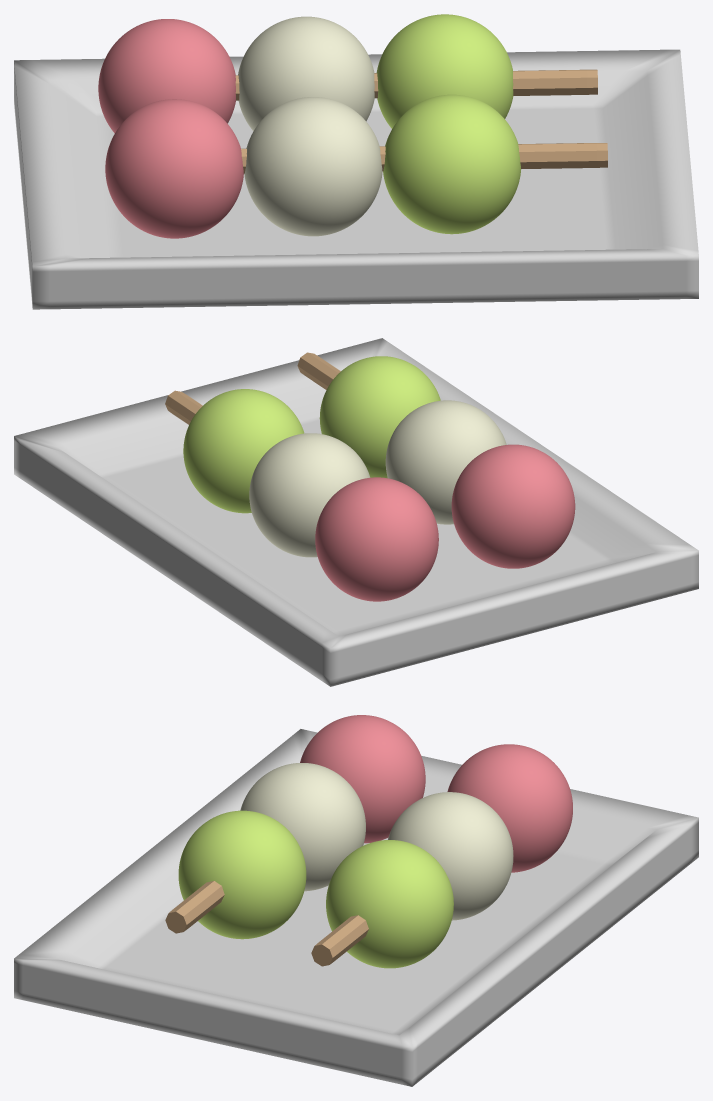
The model's file is platilloDalgonas.fbx.
3 views of the same model, one above another, from view 1: azimuth 30°, elevation 25°; view 2: azimuth 150°, elevation 25°; view 3: azimuth 270°, elevation 25° (orthographic). The views are drawn at different scales.
Parts seen in each view (by area): view 1: platilloDalgonas; view 2: platilloDalgonas; view 3: platilloDalgonas.
Boxes of the visible parts, bbox=[...] form: platilloDalgonas: bbox=[14, 14, 698, 309]; platilloDalgonas: bbox=[14, 338, 698, 686]; platilloDalgonas: bbox=[14, 715, 698, 1086].
Size of the model in its own units: 71.83 by 15.91 by 65.28.
